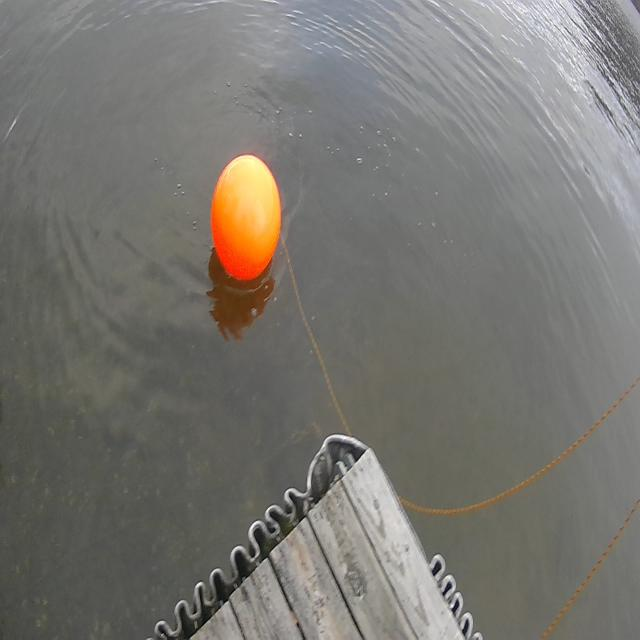Buoy: (208, 150, 284, 294)
